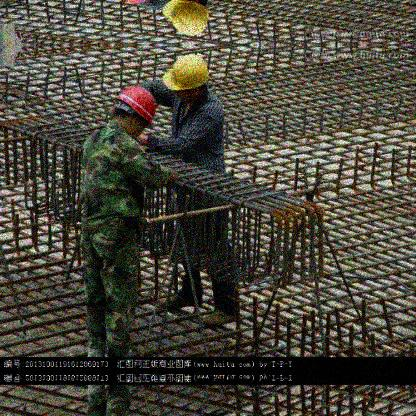helmet: (114, 84, 156, 144), (161, 53, 210, 102)
